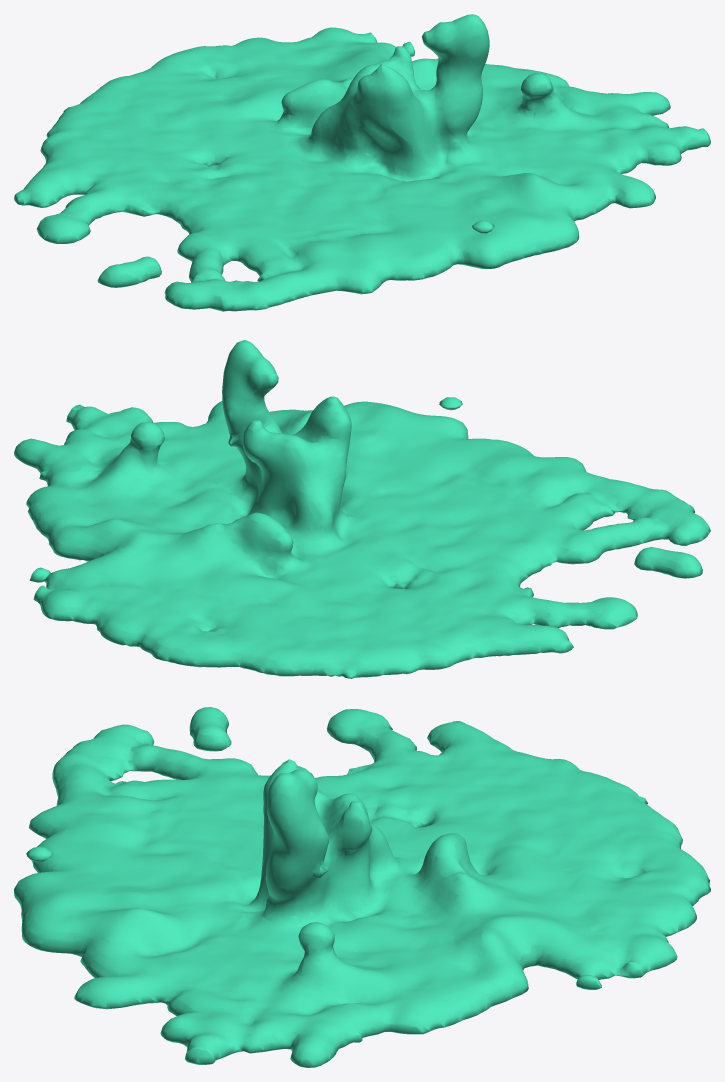
3 renders of one model, top to bottom at view 1: azimuth 30°, elevation 25°; view 2: azimuth 150°, elevation 25°; view 3: azimuth 270°, elevation 25°, orthographic. The views are drawn at different scales.
Visible parts, largest first — view 1: Liquid_Domain; view 2: Liquid_Domain; view 3: Liquid_Domain.
Boxes of the visible parts, x1,y1,x2,y2 form: Liquid_Domain: (14,14,710,311); Liquid_Domain: (14,340,710,678); Liquid_Domain: (14,707,710,1067).
Bounding box in the file's own units: 18.25 × 4.31 × 15.28.
